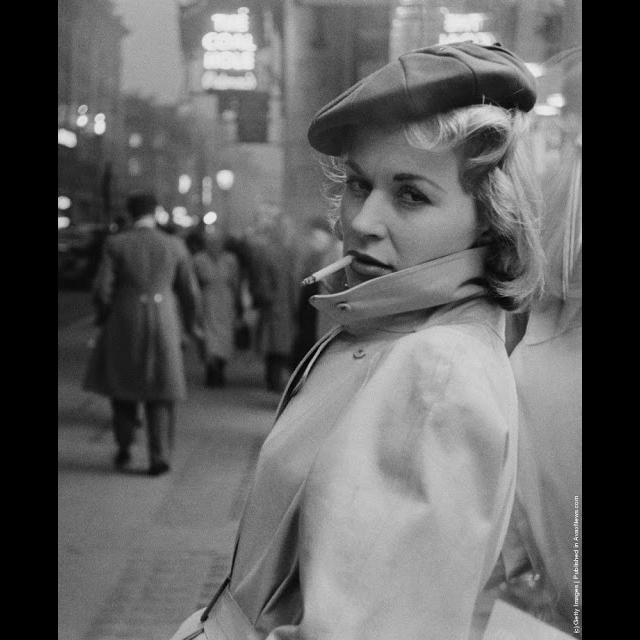rokok: (296, 250, 358, 292)
